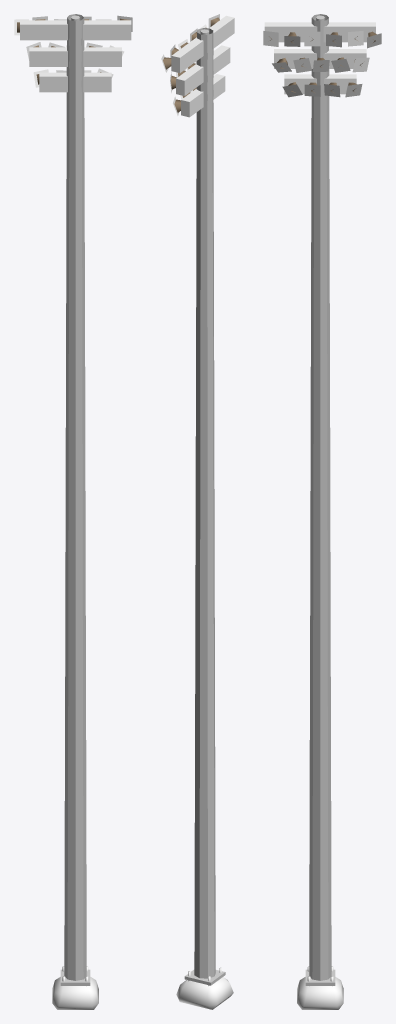
The model's file is pole_lighting2.dae.
3 renders of one model, left to right at view 1: azimuth 90°, elevation 25°; view 2: azimuth 150°, elevation 25°; view 3: azimuth 270°, elevation 25°, orthographic.
Visible parts, largest first — view 1: Colmesh-1, pole_lighting2_a400; view 2: Colmesh-1, pole_lighting2_a400; view 3: Colmesh-1, pole_lighting2_a400.
Part boxes in pixels (x1,y1,x2,y2): Colmesh-1: [64, 14, 86, 980]; pole_lighting2_a400: [14, 15, 132, 1009]; Colmesh-1: [194, 28, 215, 978]; pole_lighting2_a400: [161, 14, 234, 1009]; Colmesh-1: [309, 14, 331, 980]; pole_lighting2_a400: [263, 15, 381, 1009].
Size of the model in its own units: 1.67 by 4.08 by 37.35.
